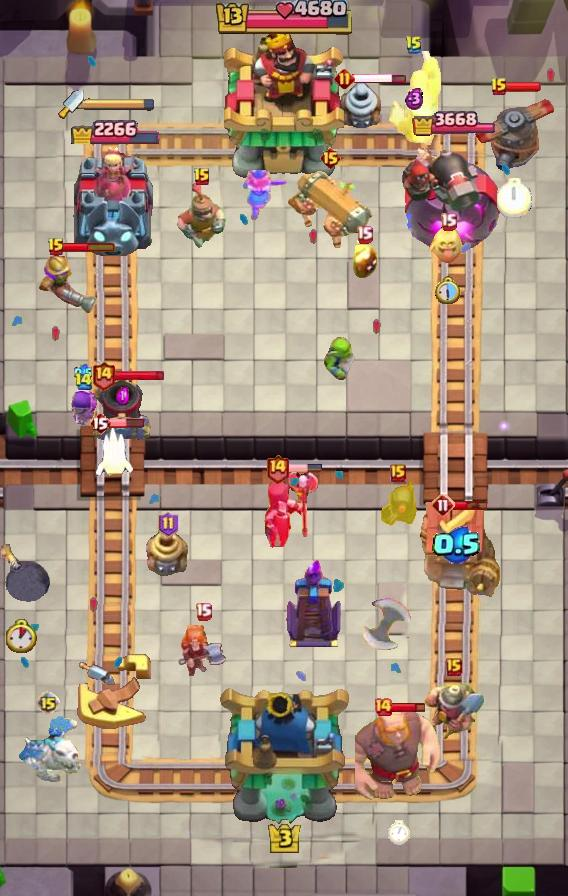baby-dragon: (1, 542, 52, 604)
balloon: (355, 706, 443, 804)
bandit: (421, 681, 487, 743)
bar: (70, 142, 158, 256)
bat: (92, 425, 134, 479)
bat-evolution: (427, 227, 469, 265)
battle-healer: (285, 169, 375, 251)
battle-ram: (377, 477, 419, 531)
bomb-tower: (37, 251, 101, 317)
bomber: (348, 237, 380, 281)
clock: (213, 0, 355, 38)
dark-prince: (469, 86, 559, 172)
earthquake: (176, 179, 228, 251)
electro-spirit: (432, 526, 482, 564), (404, 86, 423, 110), (74, 364, 92, 382), (116, 387, 129, 405)
elixir: (497, 178, 532, 218), (6, 619, 37, 653), (434, 276, 461, 305), (388, 819, 410, 844)
emote: (352, 72, 407, 85), (114, 370, 166, 383), (64, 241, 117, 253), (390, 702, 426, 715), (506, 81, 542, 93), (109, 417, 145, 429), (453, 499, 489, 511), (287, 463, 323, 473)
firecracker: (386, 51, 442, 148)
goblin: (69, 389, 98, 427)
goblin-drill: (337, 76, 383, 130), (145, 526, 191, 578)
hog-rider: (177, 625, 229, 677), (241, 168, 289, 222)
ice-spirit-evolution-symbol: (284, 557, 344, 649)
king-tower: (216, 684, 352, 826), (224, 29, 344, 181)
king-tower-bar: (84, 97, 156, 111)
mini-pekka: (14, 715, 82, 789)
musketeer: (91, 376, 153, 444)
rascal-boy: (261, 469, 321, 553)
royal-giant: (360, 597, 428, 651)
selected: (68, 112, 160, 143), (413, 108, 496, 140)
sparky: (414, 501, 500, 599)
text: (92, 361, 117, 392), (266, 452, 291, 483), (431, 493, 455, 517), (36, 691, 60, 715), (319, 146, 342, 170), (158, 511, 179, 537), (89, 411, 111, 435), (334, 68, 355, 89), (373, 697, 393, 717), (74, 372, 93, 391), (405, 35, 423, 55), (490, 77, 508, 97), (193, 167, 211, 187), (47, 237, 65, 257), (355, 225, 373, 244), (195, 603, 213, 622), (439, 213, 456, 231), (390, 464, 406, 482), (446, 658, 462, 676)
tower-bar: (402, 136, 504, 256)
zap: (318, 337, 358, 381)
